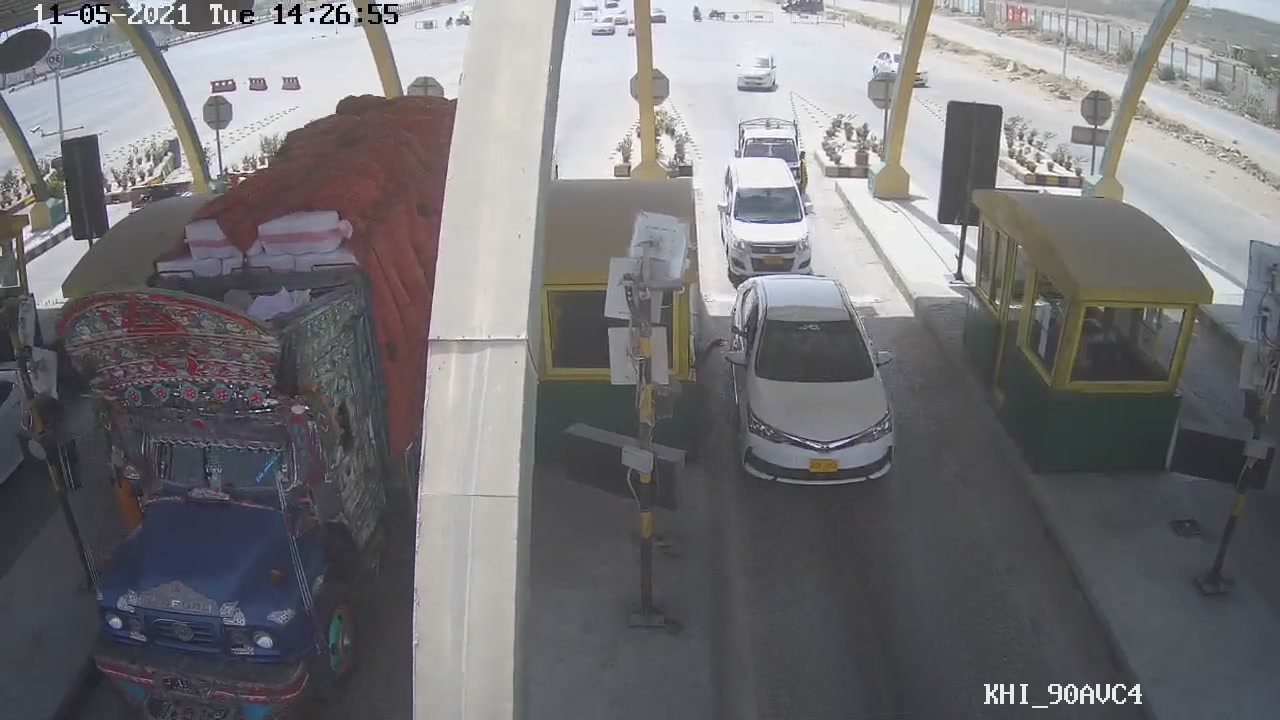F1: (724, 275, 902, 489)
